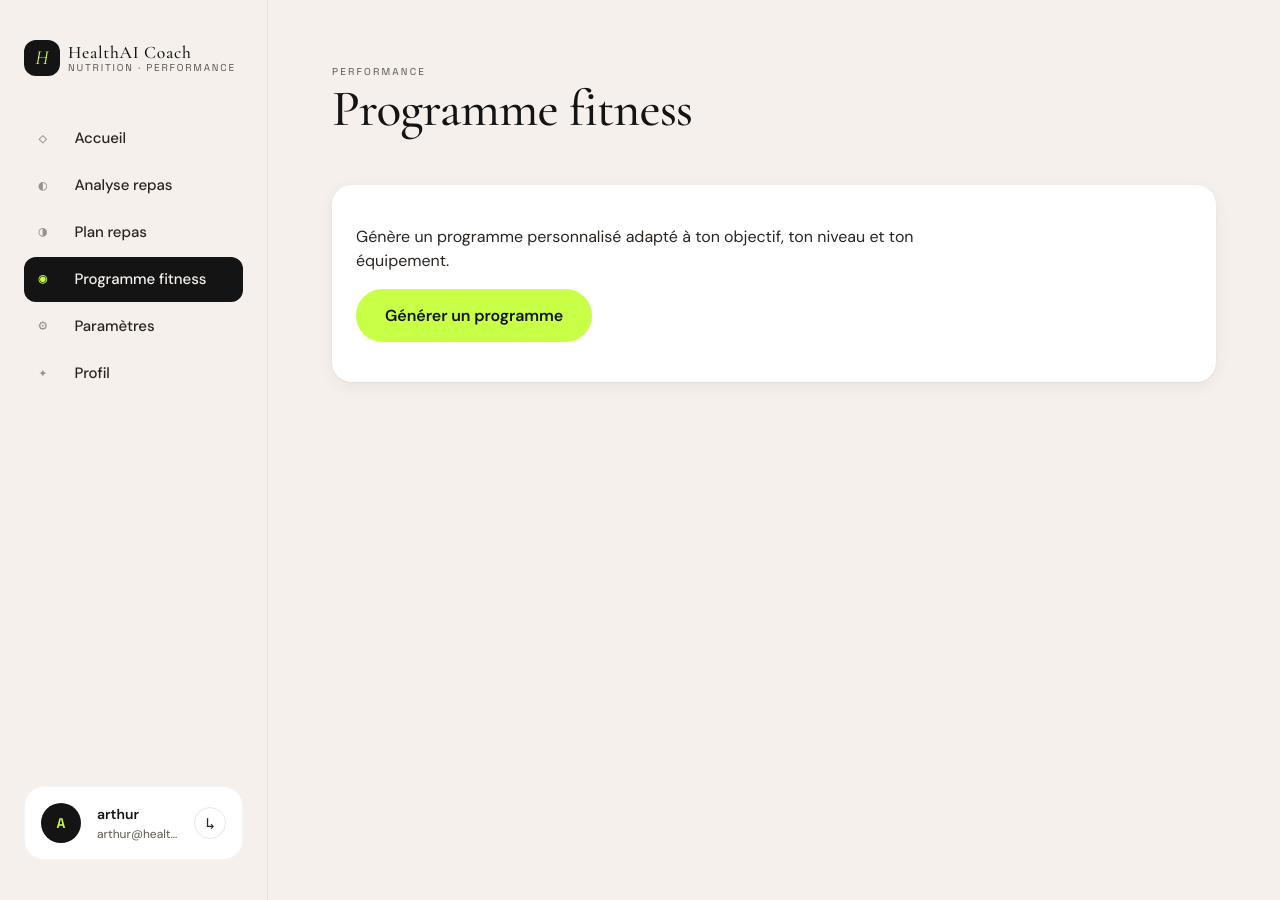
FitnessProgramView › shows the rate-limit banner with retry-after on 429
Click the button with test id "generate-program-cta". click: {"x": 474, "y": 316}
box: [356,289,592,342]
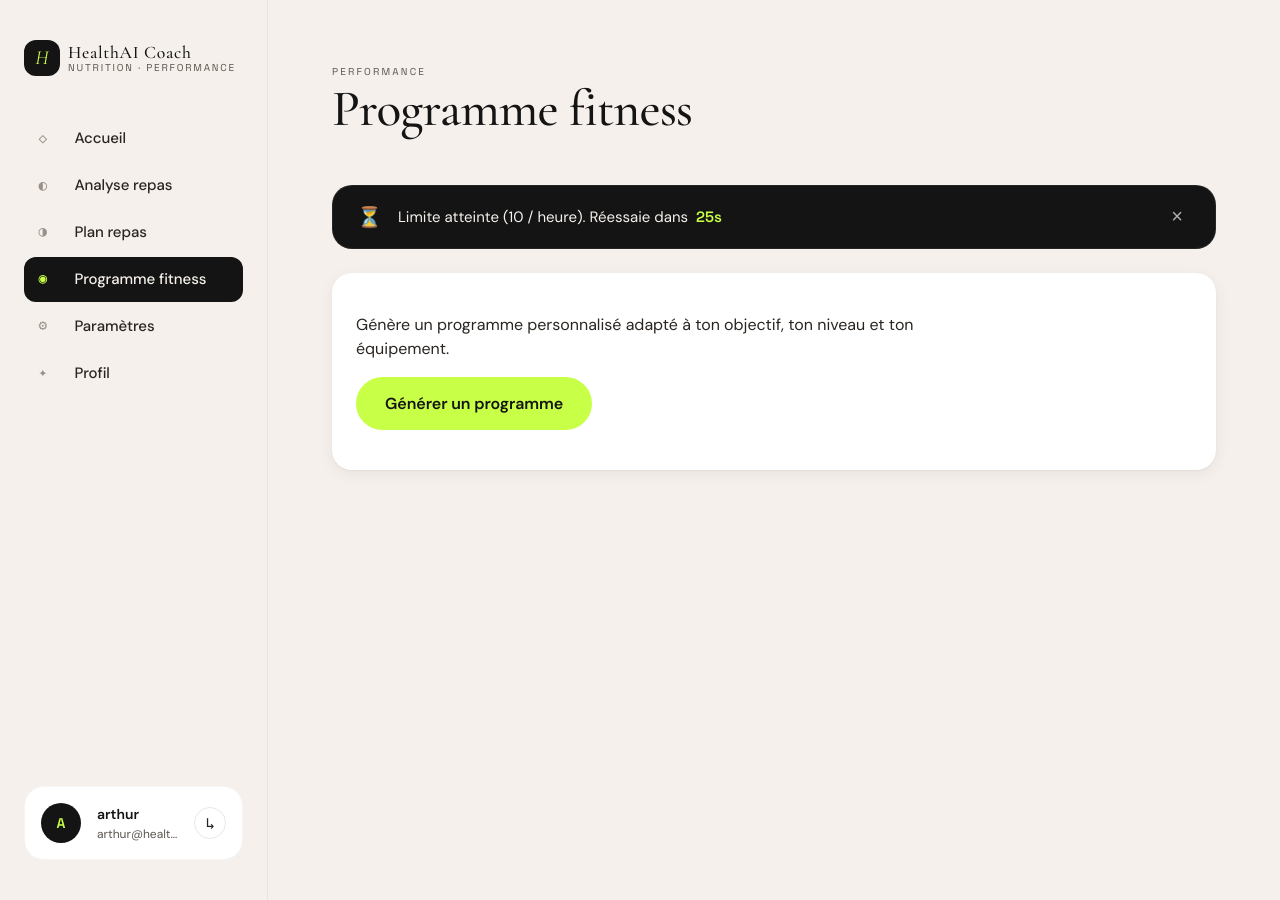
expect the element with test id "program-rate-limit" shows "25": met, box [332,185,1216,249]
